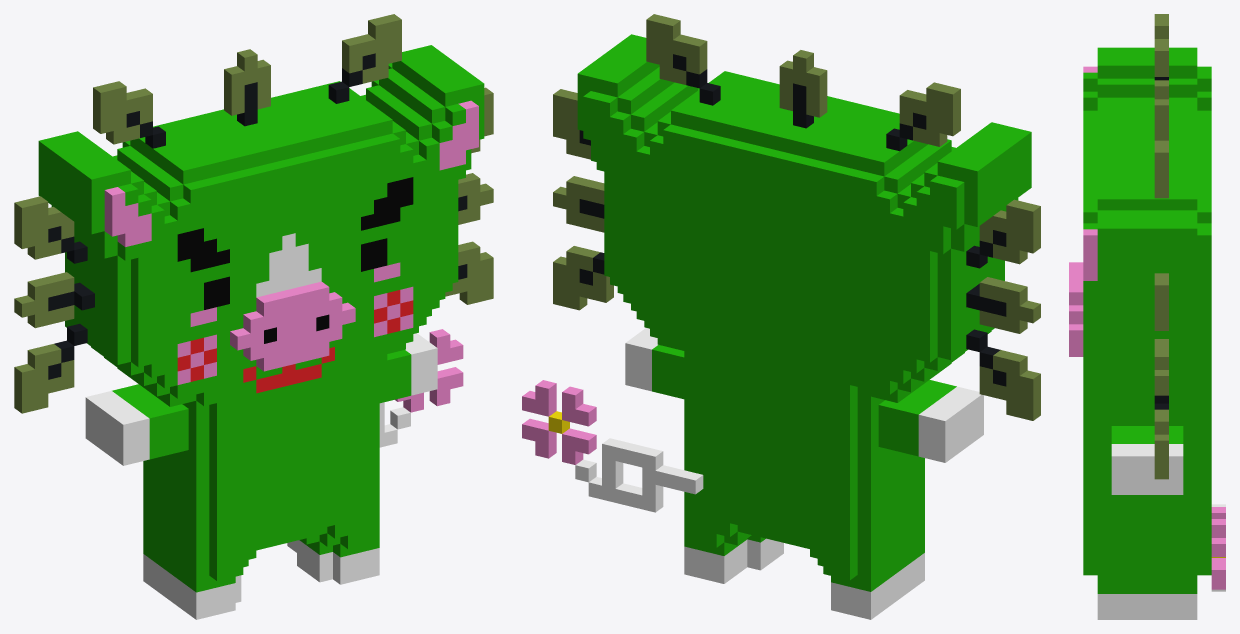
The model's file is buribu-.glb.
The picture shows the model from 3 angles, left to right: view 1: azimuth 30°, elevation 25°; view 2: azimuth 150°, elevation 25°; view 3: azimuth 270°, elevation 25°; orthographic projection. The views are drawn at different scales.
Parts seen in each view (by area): view 1: Untitled; view 2: Untitled; view 3: Untitled.
Part boxes in pixels (x1,y1,x2,y2): Untitled: (14, 14, 493, 619); Untitled: (522, 14, 1040, 619); Untitled: (1069, 14, 1225, 619).
Size of the model in its own units: 3.6 by 3.8 by 1.1.
1 material, 1 textured.
